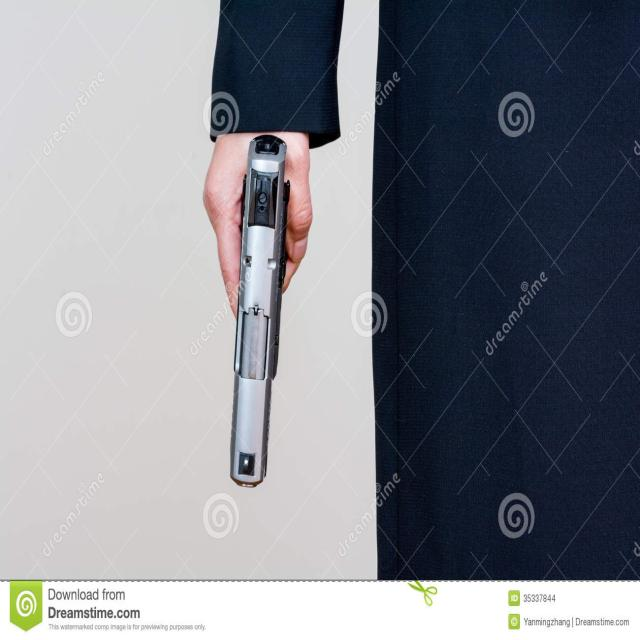HandGun: (229, 132, 290, 490)
